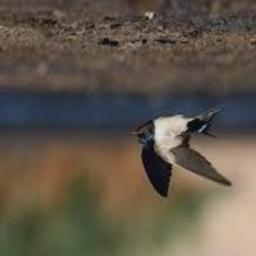Swallow: (132, 105, 232, 198)
